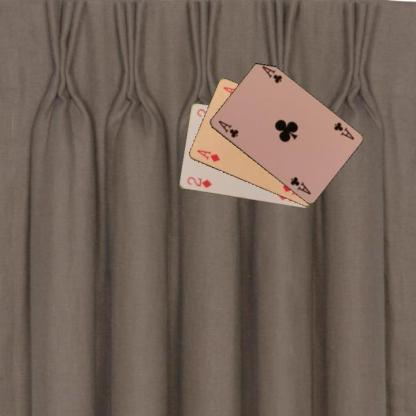2d: (184, 174, 213, 190)
Ac: (330, 119, 355, 142), (215, 118, 240, 139)
Ad: (194, 148, 221, 164)
